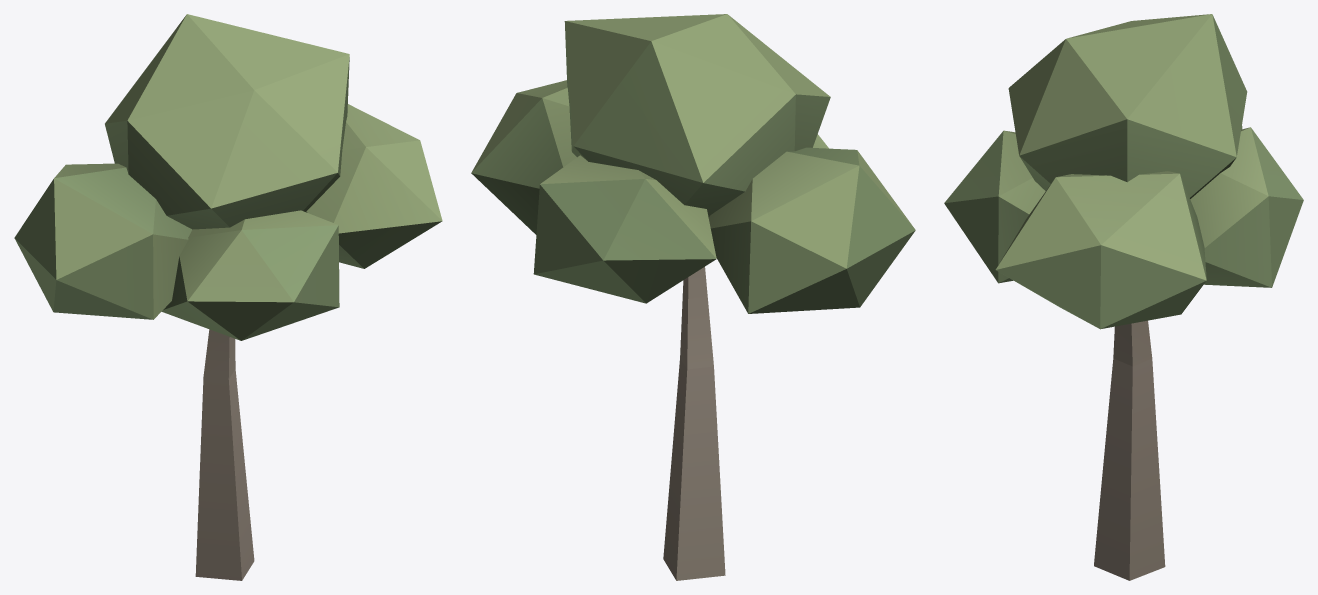
File: lemon.lod2.glb
3 renders of one model, left to right at view 1: azimuth 30°, elevation 25°; view 2: azimuth 150°, elevation 25°; view 3: azimuth 270°, elevation 25°, orthographic. The views are drawn at different scales.
Bounding box in the file's own units: 2.81 × 3.76 × 2.21.
